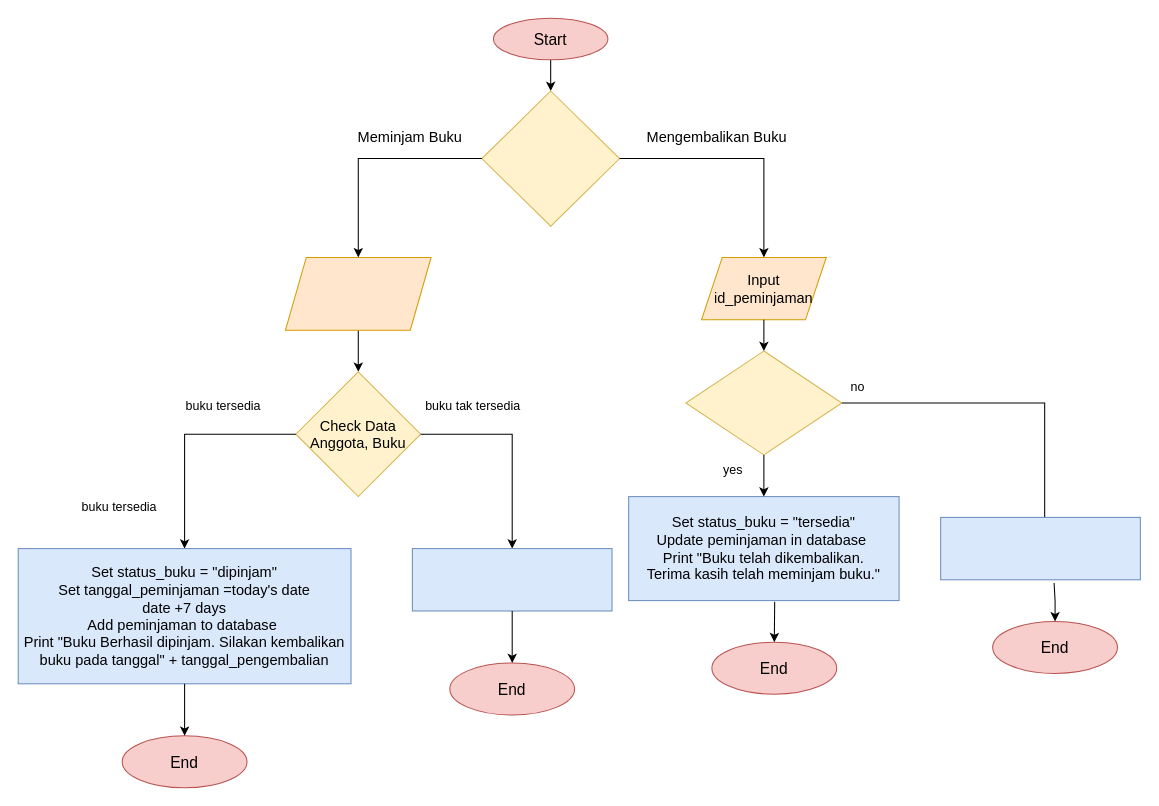
This 1159x806 diagram has some shape labels left out. The box of each missing label's shape, as (x1, y1, x2, y2) in pixels:
Check data peminjaman: (685, 350, 842, 455)
digunakan untuk: (481, 90, 620, 226)
Input id_anggota, id_buku: (284, 256, 431, 330)
Print "Maaf, buku sedang tidak tersedia": (411, 548, 612, 611)
Print "Maaf, data peminjaman buku tidak ditemukan": (940, 516, 1140, 580)
